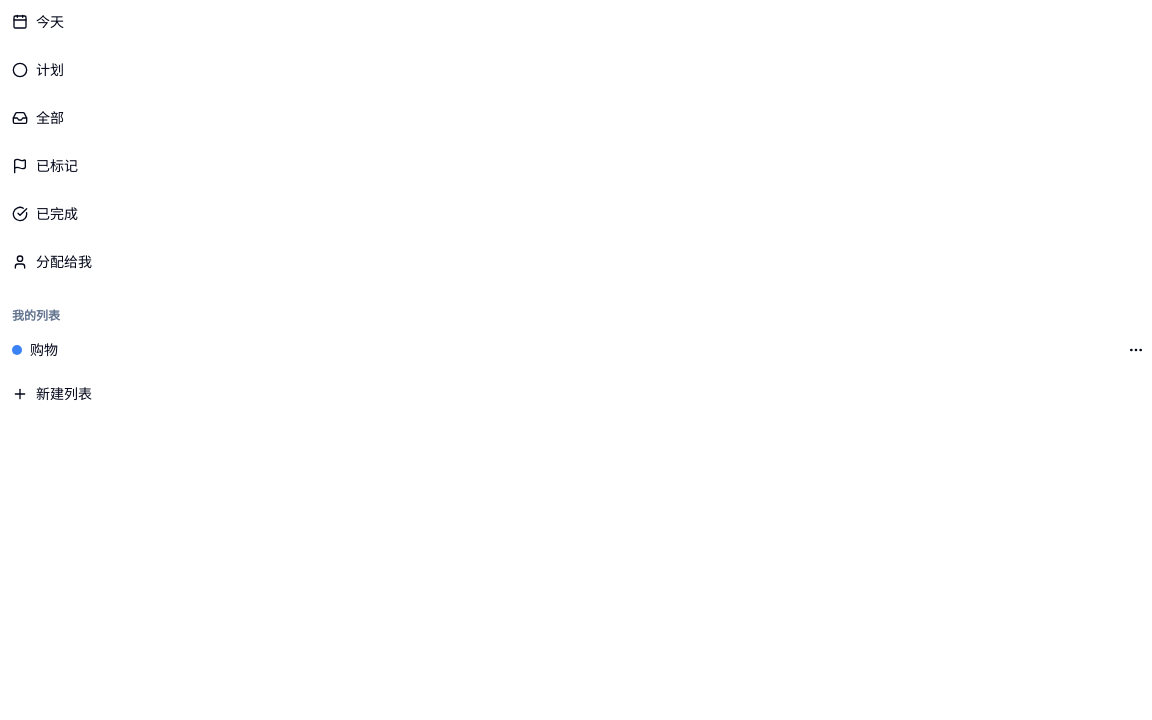
it: Sidebar › deletes the list and shows an undo toast on confirm
The width and height of the screenshot is (1152, 720).
Click the button named "列表设置" at (1136, 350), box [1120,334,1151,366]
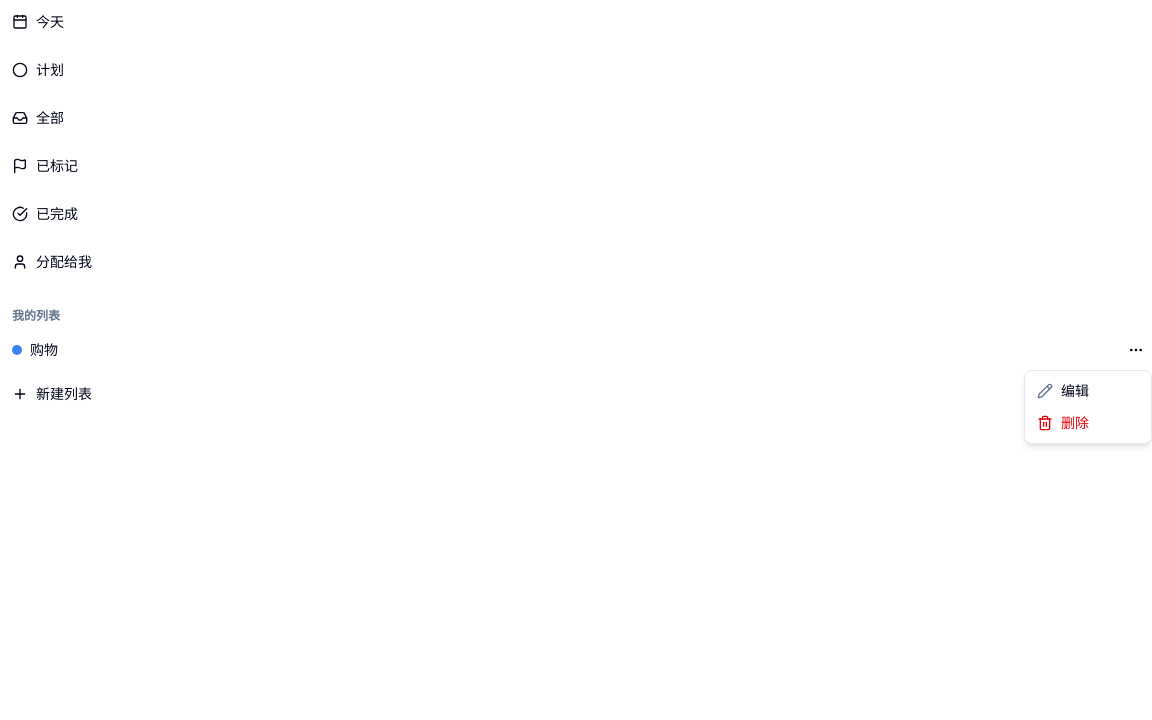
Click the menu item "删除" at (1063, 422), box [1037,413,1089,432]
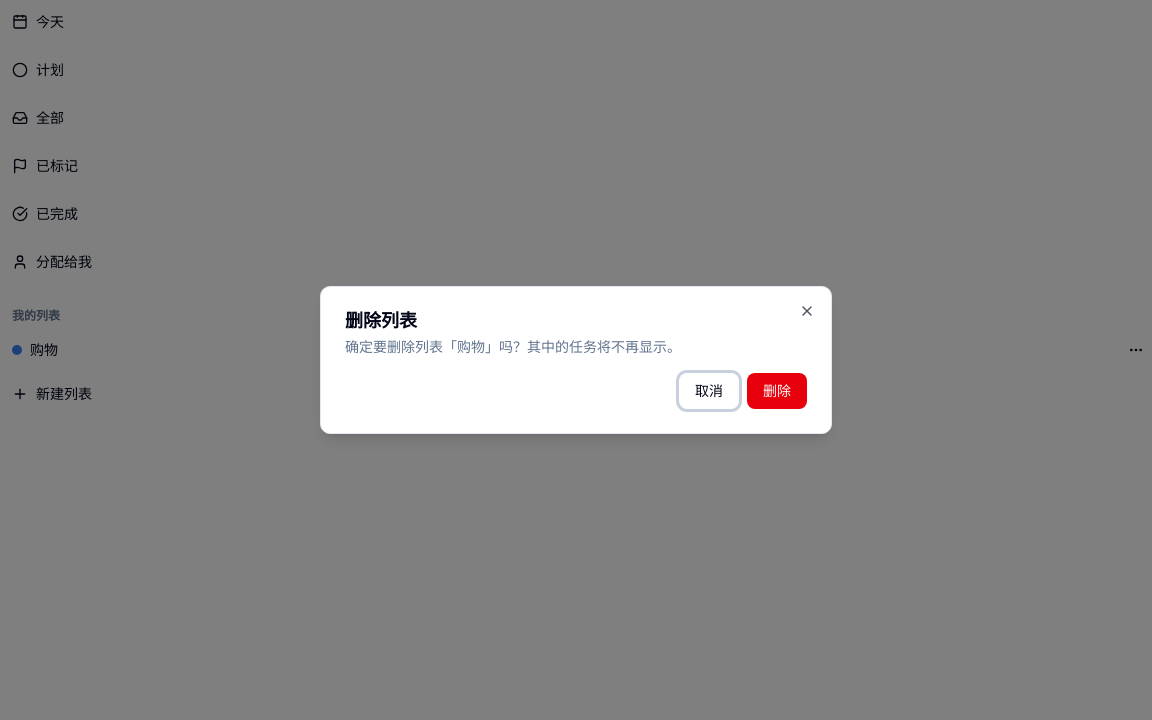
Click the button "删除" at (777, 391), box [747,373,807,409]
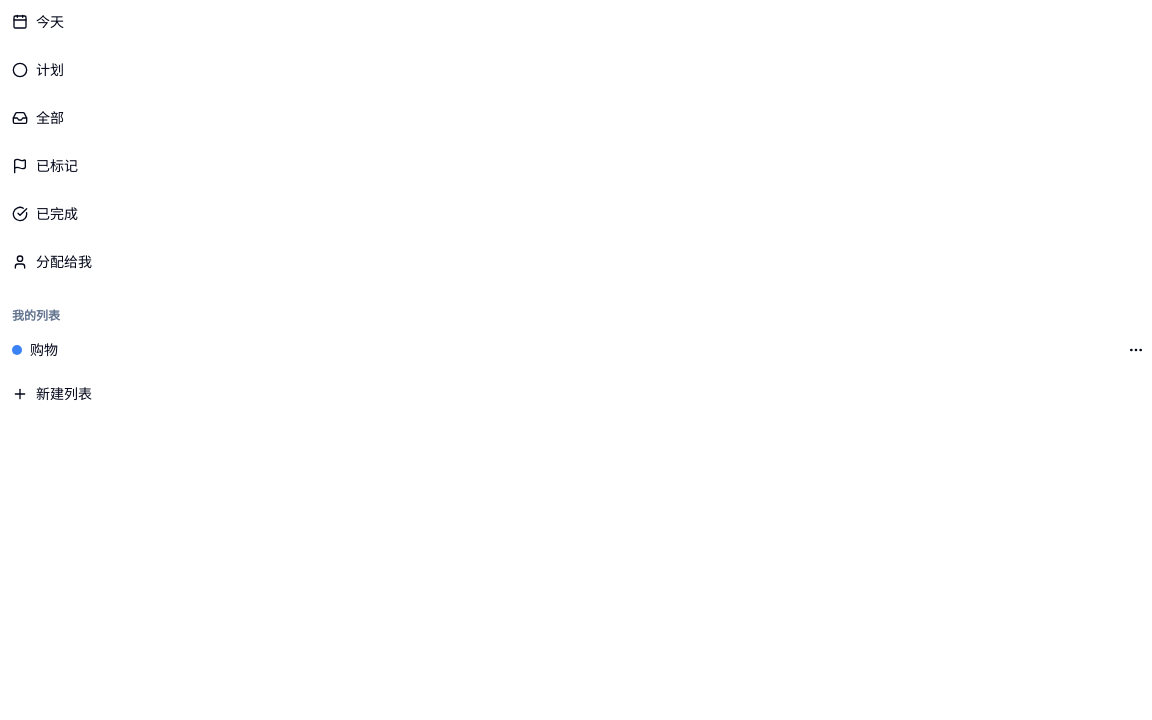
Expected: the dialog is gone
